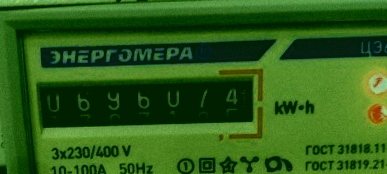0: (42, 88, 61, 112), (163, 83, 180, 108)
4: (221, 82, 238, 104)
5: (223, 107, 239, 122)
6: (134, 84, 152, 110), (74, 87, 91, 112)
7: (193, 83, 211, 109)
9: (104, 85, 120, 112)
screen: (25, 64, 267, 139)
